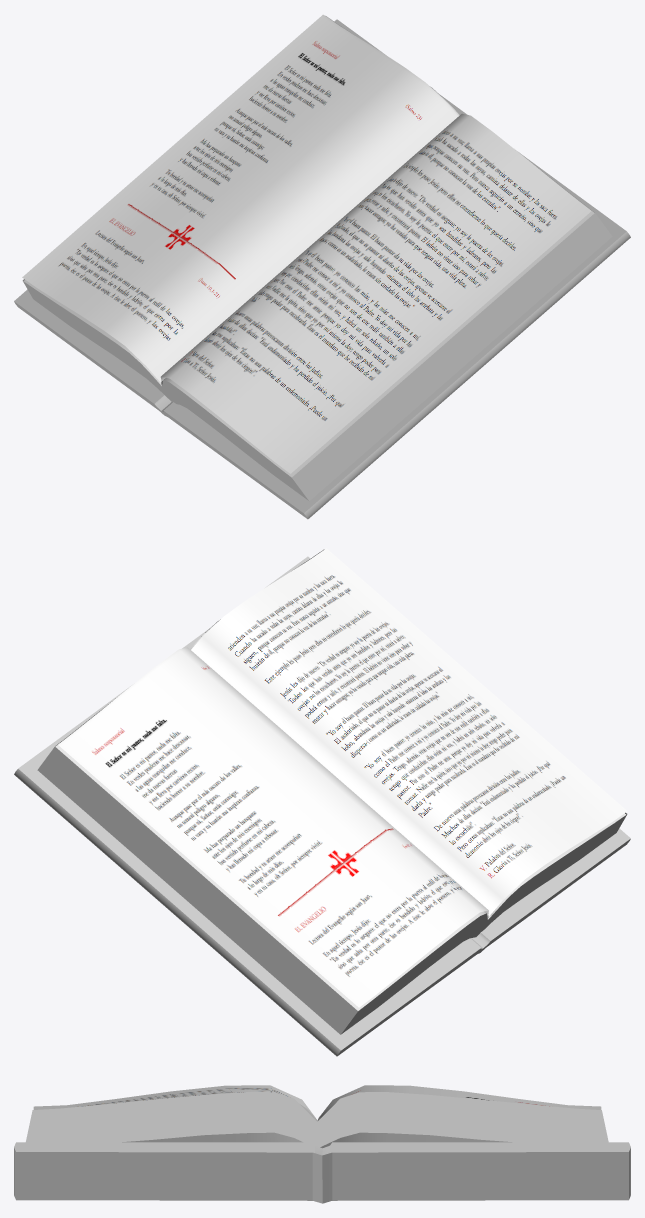
The model's file is Iglesia-Leccionario(lowpoly).fbx.
3 views of the same model, one above another, from view 1: azimuth 30°, elevation 25°; view 2: azimuth 150°, elevation 25°; view 3: azimuth 270°, elevation 25° (orthographic). The views are drawn at different scales.
Parts seen in each view (by area): view 1: Low_Pag-IzqL, Low_Pag-DerL, Low_CuerpoL, Low_CubiertaL, Low_PaginasL; view 2: Low_Pag-DerL, Low_Pag-IzqL, Low_CuerpoL, Low_CubiertaL, Low_PaginasL; view 3: Low_CubiertaL, Low_CuerpoL, Low_Pag-IzqL, Low_Pag-DerL.
Boxes of the visible parts, x1=… form: Low_Pag-IzqL: x1=22, y1=14, x2=458, y2=382; Low_Pag-DerL: x1=160, y1=113, x2=591, y2=473; Low_CuerpoL: x1=22, y1=16, x2=612, y2=501; Low_CubiertaL: x1=14, y1=19, x2=630, y2=519; Low_PaginasL: x1=23, y1=88, x2=594, y2=477; Low_Pag-DerL: x1=191, y1=548, x2=627, y2=916; Low_Pag-IzqL: x1=58, y1=647, x2=488, y2=1007; Low_CuerpoL: x1=37, y1=549, x2=627, y2=1034; Low_CubiertaL: x1=14, y1=556, x2=630, y2=1056; Low_PaginasL: x1=55, y1=622, x2=626, y2=1010; Low_CubiertaL: x1=14, y1=1142, x2=630, y2=1203; Low_CuerpoL: x1=26, y1=1092, x2=608, y2=1148; Low_Pag-IzqL: x1=318, y1=1085, x2=601, y2=1119; Low_Pag-DerL: x1=33, y1=1085, x2=318, y2=1121.
Size of the model in its own units: 0.3591 by 0.2499 by 0.5299.
